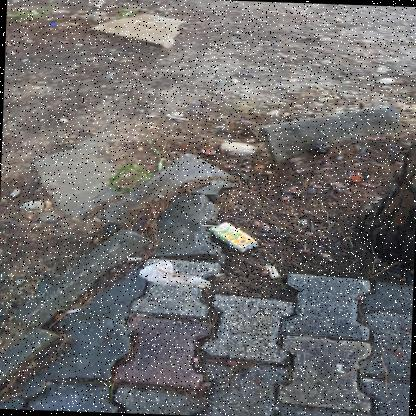Cigarette: (214, 273, 225, 278), (127, 258, 142, 261)
Drink carton: (209, 222, 258, 252)
Plastic straw: (201, 225, 216, 227)
